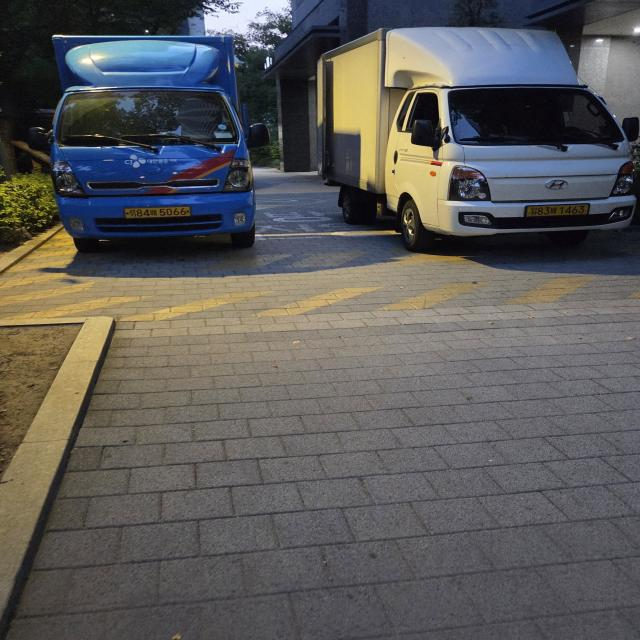car: (288, 26, 640, 264), (34, 22, 281, 279)
